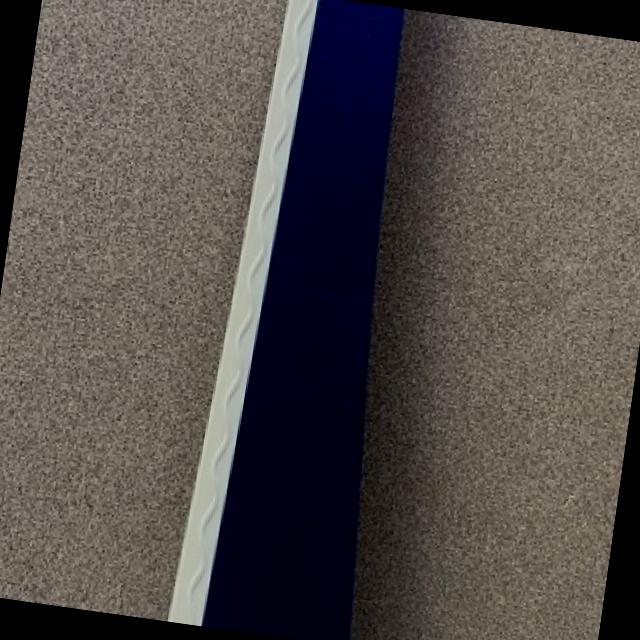healthy: (170, 0, 405, 640)
